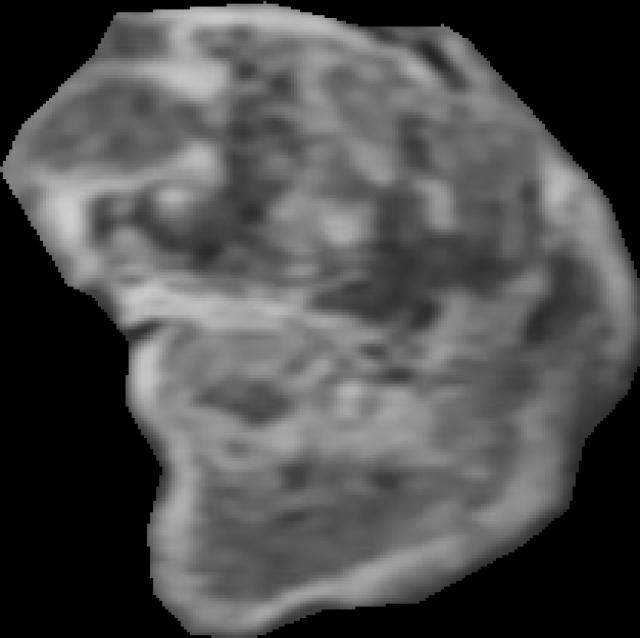tumor_good_chance: (0, 1, 640, 638)
